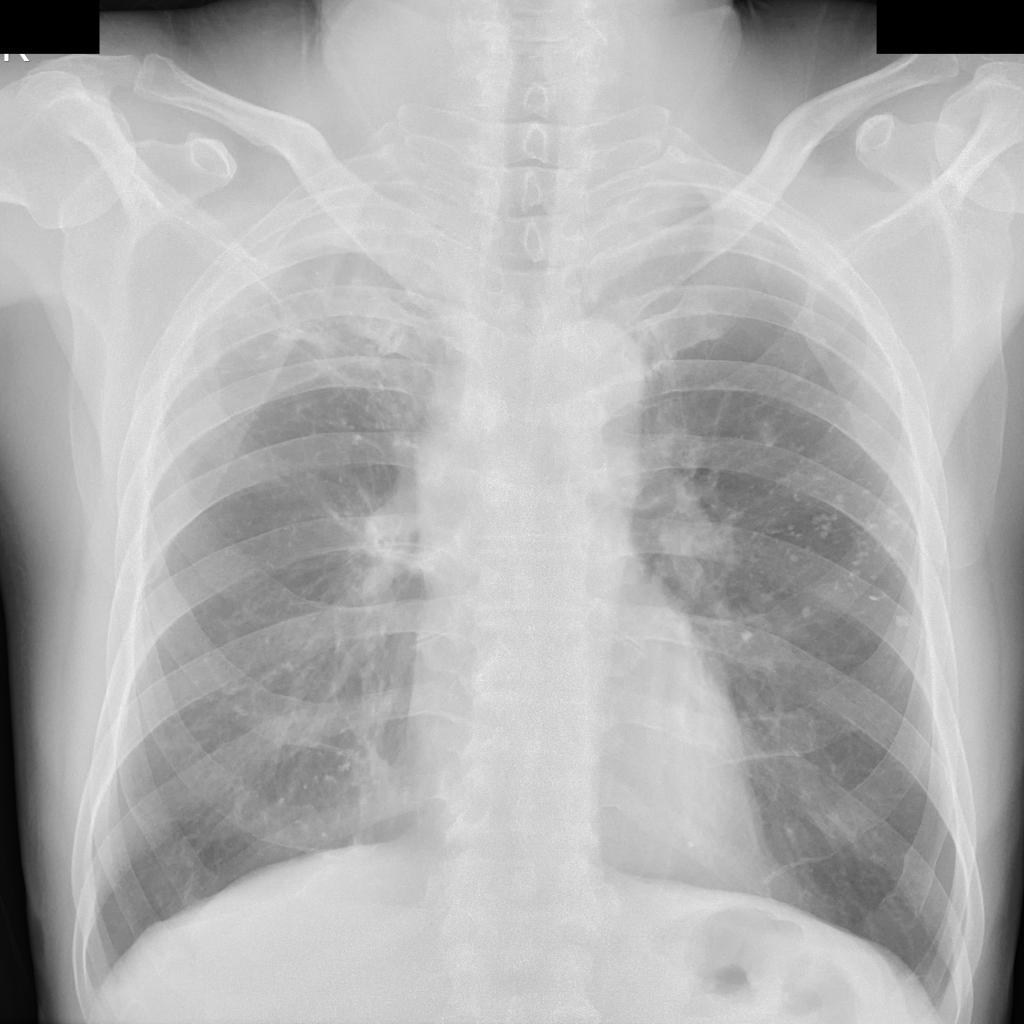Nodule: (738, 372, 923, 636)
